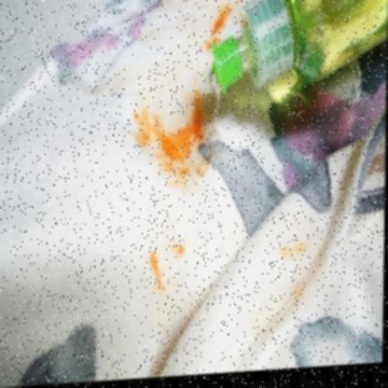kimchi: (128, 114, 210, 185), (142, 249, 171, 302), (211, 5, 232, 35), (184, 92, 205, 119), (284, 239, 308, 258), (173, 244, 188, 261), (203, 38, 213, 49), (297, 285, 304, 298)
